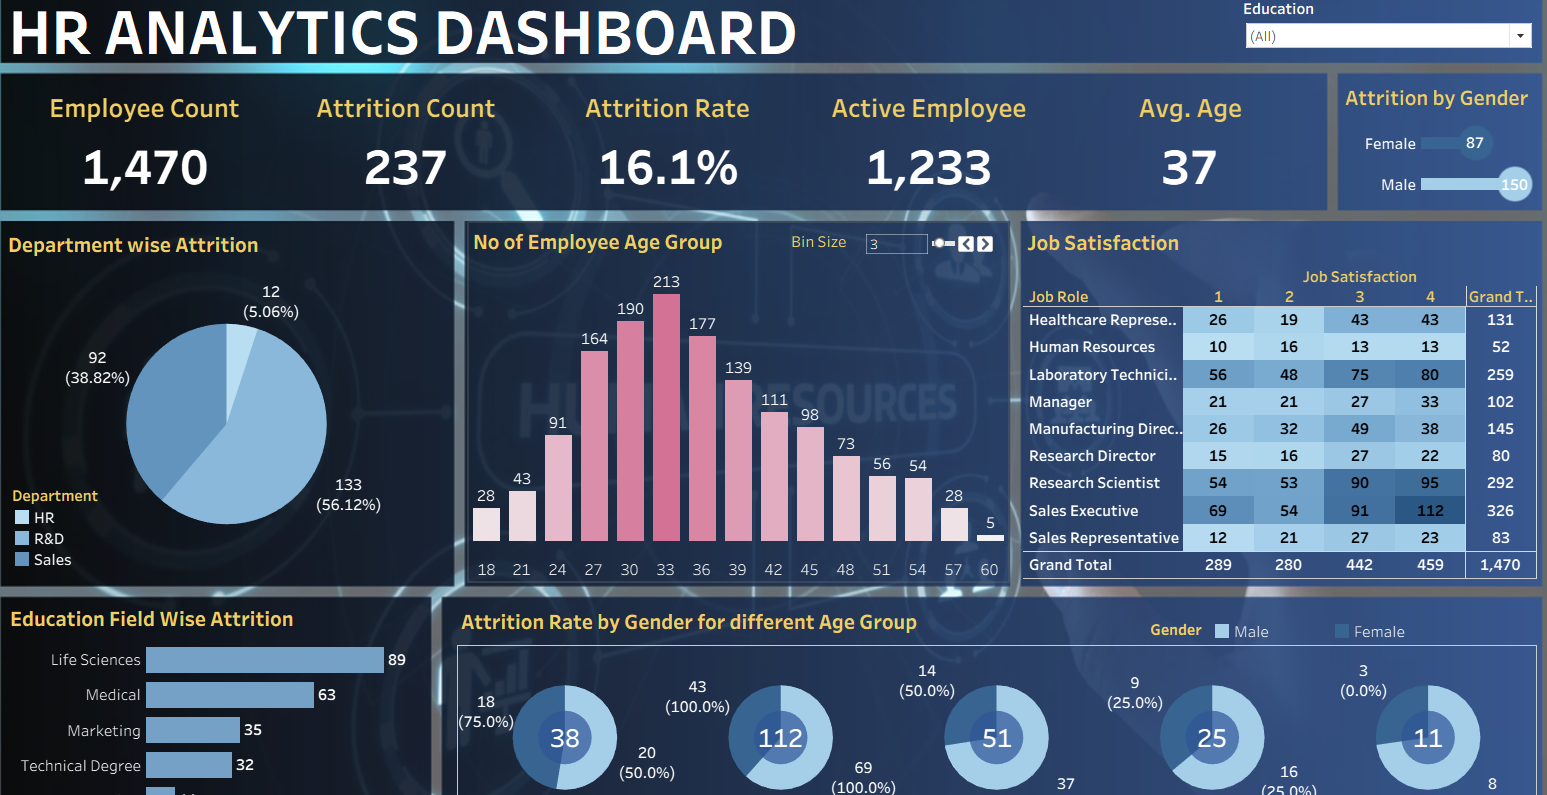

Layout of this report page (visuals, bound fields, positions):
{"tool":"powerbi","page":{"name":"Page 1","canvas":[1280,720],"ordinal":0},"visuals":[{"type":"card","title":"Overall Employees","fields":{"Values":["Sum(HR data.Employee Count)"]},"box":[10.9,96.5,242.5,103.8],"z":0},{"type":"card","title":"Attrition Count","fields":{"Values":["Sum(HR data.Attrition column)"]},"box":[518.8,95.3,242.5,103.8],"z":1000},{"type":"card","title":"Attrition Rate","fields":{"Values":["HR data.Attrition Rate"]},"box":[769.7,95.3,242.5,103.8],"z":2000},{"type":"card","title":"Active Employees","fields":{"Values":["HR data.Active Employees"]},"box":[1027.9,96.5,242.5,103.8],"z":3000},{"type":"card","title":"Average Age","fields":{"Values":["HR data.Average Age"]},"box":[263,95.3,242.5,105],"z":4000},{"type":"pieChart","title":" Department Wise Attrition","fields":{"Category":["HR data.Department"],"Y":["Sum(HR data.Attrition column)"]},"box":[10.9,219.6,410.2,237.7],"z":5000},{"type":"columnChart","title":"Number of Employee by Age Group","fields":{"Category":["HR data.CF_age band"],"Y":["Sum(HR data.Employee Count)"],"Series":["HR data.Gender"]},"box":[435.5,218.4,410.2,238.9],"z":6000},{"type":"pivotTable","title":"Job Satisfaction Rating","fields":{"Rows":["HR data.Job Role"],"Columns":["HR data.Job Satisfaction"],"Values":["Sum(HR data.Employee Count)"]},"box":[860.2,219.6,410.2,238.9],"z":7000},{"type":"barChart","title":" Education Field Wise Attrition","fields":{"Category":["HR data.Education Field"],"Y":["Sum(HR data.Attrition column)"]},"box":[10.9,468.1,292,244.9],"z":8000},{"type":"donutChart","title":"Under 25","fields":{"Category":["HR data.Gender"],"Y":["Sum(HR data.Attrition column)"],"Series":["HR data.CF_age band"]},"box":[308.8,503.1,200,210],"z":9000},{"type":"textbox","title":"Attrition Rate by Gender Different Age Groups","box":[308.8,468.1,961.5,29],"z":10000},{"type":"donutChart","title":"25 - 34","fields":{"Category":["HR data.Gender"],"Y":["Sum(HR data.Attrition column)"],"Series":["HR data.CF_age band"]},"box":[509.1,503.1,200.3,209.9],"z":11000},{"type":"donutChart","title":"35 - 44","fields":{"Category":["HR data.Gender"],"Y":["Sum(HR data.Attrition column)"],"Series":["HR data.CF_age band"]},"box":[709.4,503.1,200.3,209.9],"z":12000},{"type":"donutChart","title":"45 - 54","fields":{"Category":["HR data.Gender"],"Y":["Sum(HR data.Attrition column)"],"Series":["HR data.CF_age band"]},"box":[902.4,503.1,200.3,209.9],"z":13000},{"type":"donutChart","title":"Above 55","fields":{"Category":["HR data.Gender"],"Y":["Sum(HR data.Attrition column)"],"Series":["HR data.CF_age band"]},"box":[1079.8,503.1,200.3,209.9],"z":14000},{"type":"card","fields":{"Values":["Sum(HR data.Attrition column)"]},"box":[974.8,597.2,55.5,43.4],"z":15000},{"type":"card","fields":{"Values":["Sum(HR data.Attrition column)"]},"box":[1152.2,597.2,55.5,43.4],"z":16000},{"type":"card","fields":{"Values":["Sum(HR data.Attrition column)"]},"box":[781.8,597.2,55.5,43.4],"z":17000},{"type":"card","fields":{"Values":["Sum(HR data.Attrition column)"]},"box":[380,597.2,55.5,43.4],"z":18000},{"type":"card","fields":{"Values":["Sum(HR data.Attrition column)"]},"box":[582.7,597.2,48.3,43.4],"z":19000},{"type":"textbox","title":"HR ANALYTICS DASHBOARD","box":[10.9,20.5,629.8,57.9],"z":20000},{"type":"slicer","fields":{"Values":["HR data.Education"]},"box":[650.3,20.5,620.1,66.4],"z":21000}]}

Visuals, with their boxes on the page's 1280x720 design canvas (x1, y1, x2, y2). These are canvas units, not pixel positions in the 1547x795 screenshot, which may show the page scaled, cropped or inside an application window:
"Overall Employees" card: [11, 96, 253, 200]
"Attrition Count" card: [519, 95, 761, 199]
"Attrition Rate" card: [770, 95, 1012, 199]
"Active Employees" card: [1028, 96, 1270, 200]
"Average Age" card: [263, 95, 506, 200]
" Department Wise Attrition" pieChart: [11, 220, 421, 457]
"Number of Employee by Age Group" columnChart: [436, 218, 846, 457]
"Job Satisfaction Rating" pivotTable: [860, 220, 1270, 458]
" Education Field Wise Attrition" barChart: [11, 468, 303, 713]
"Under 25" donutChart: [309, 503, 509, 713]
"Attrition Rate by Gender Different Age Groups" textbox: [309, 468, 1270, 497]
"25 - 34" donutChart: [509, 503, 709, 713]
"35 - 44" donutChart: [709, 503, 910, 713]
"45 - 54" donutChart: [902, 503, 1103, 713]
"Above 55" donutChart: [1080, 503, 1280, 713]
card - Sum(HR data.Attrition column): [975, 597, 1030, 641]
card - Sum(HR data.Attrition column): [1152, 597, 1208, 641]
card - Sum(HR data.Attrition column): [782, 597, 837, 641]
card - Sum(HR data.Attrition column): [380, 597, 436, 641]
card - Sum(HR data.Attrition column): [583, 597, 631, 641]
"HR ANALYTICS DASHBOARD" textbox: [11, 20, 641, 78]
slicer - HR data.Education: [650, 20, 1270, 87]
